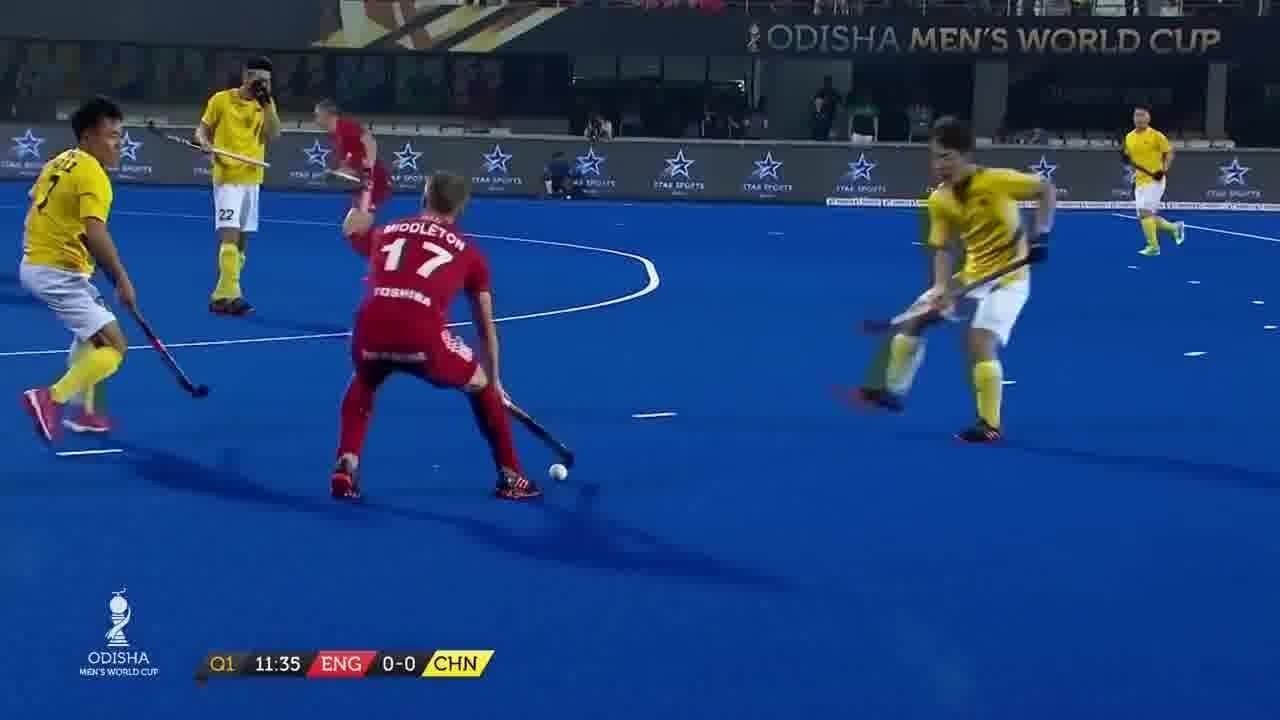ball: (546, 456, 574, 492)
